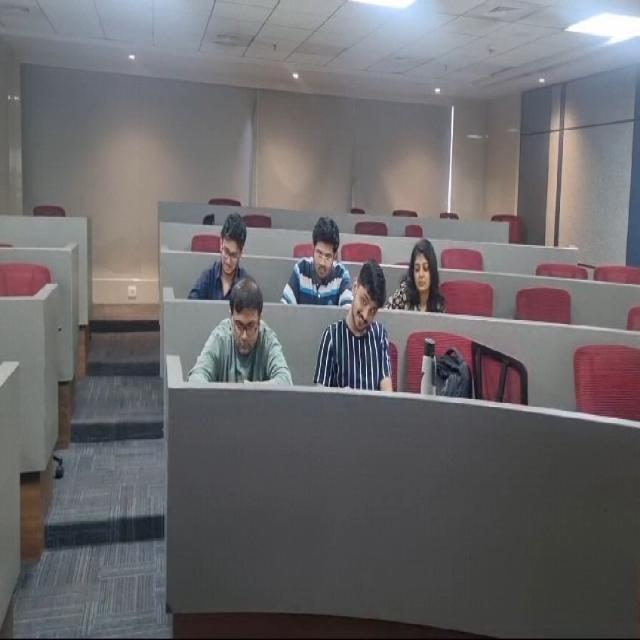cheating: (335, 260, 394, 376)
non-cheating: (204, 270, 284, 385), (281, 201, 350, 308), (195, 202, 250, 290), (400, 226, 446, 318)
